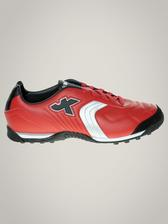shoes: (3, 77, 165, 144)
